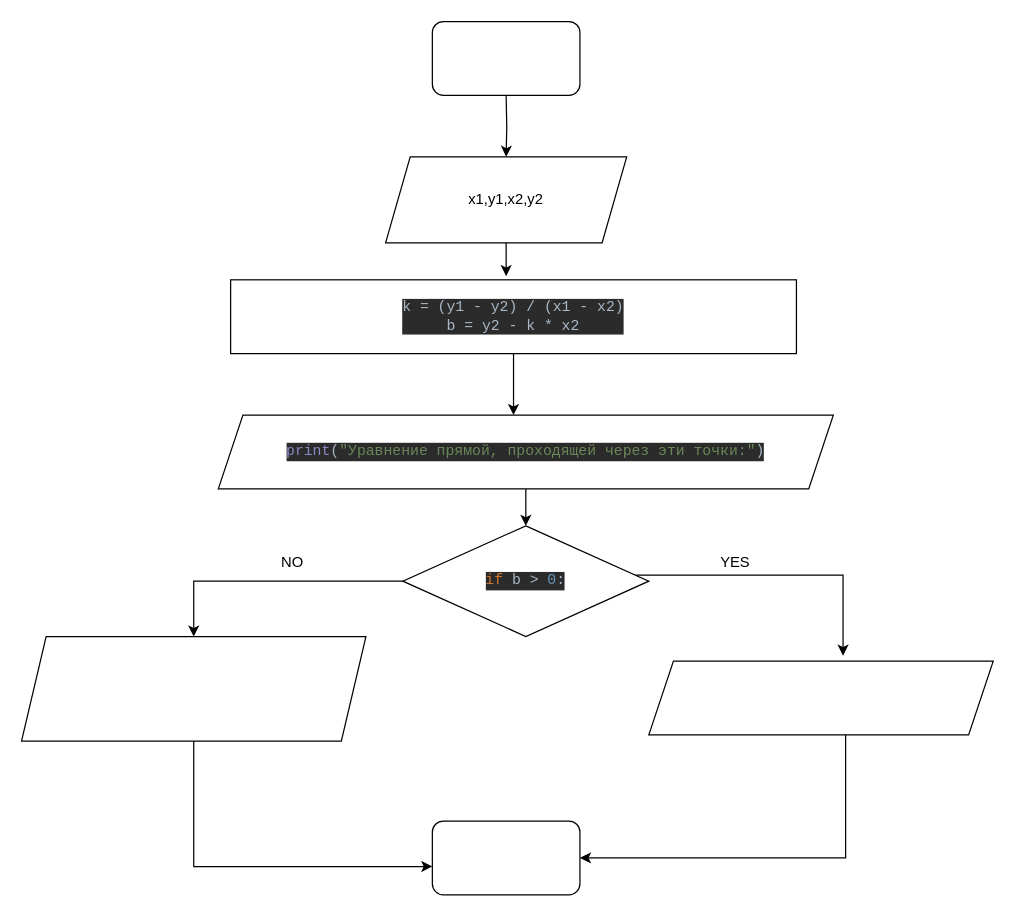
The diagram is 1015 pixels wide and 916 high, and some of its shapes have lost their labels. Each missing label, with the centre of its shape:
print ( " y = %.2f*x %.2f" % (k , b)): point 193,688
print ( " y = %.2f*x + %.2f" % (k , b)): point 820,697
